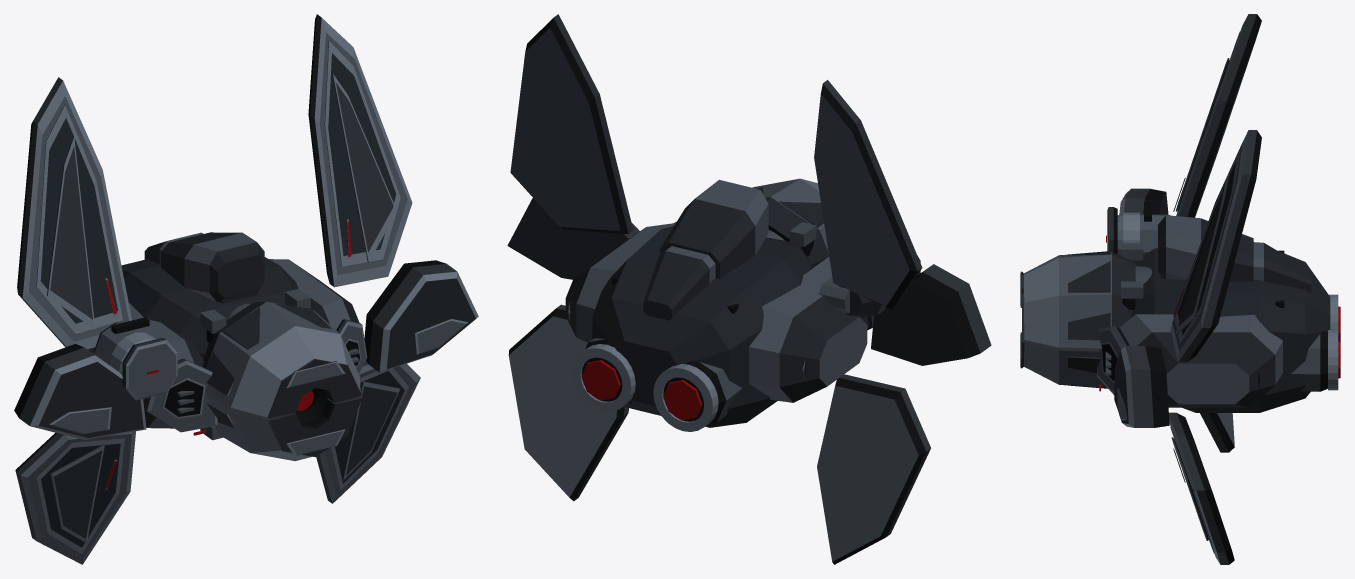
File: VeilAssembled.obj
3 renders of one model, left to right at view 1: azimuth 30°, elevation 25°; view 2: azimuth 150°, elevation 25°; view 3: azimuth 270°, elevation 25°, orthographic. The views are drawn at different scales.
Parts seen in each view (by area): view 1: swept_blade, blade_inset, armoured_outrigger, load_bearing_ridge, armoured_bore_jaw, armoured_pressure_hull, dorsal_panel_mount, nose_armour_face, heavy_shoulder, sensor_hatch, shoulder_face, jaw_reinforcement (+7 smaller); view 2: swept_blade, armoured_pressure_hull, heavy_shoulder, armoured_outrigger, dorsal_panel_mount, exhaust_collar, dorsal_spine, armoured_bore_jaw, engine_core, rear_engine, sensor_bracket, jaw_reinforcement (+1 smaller); view 3: swept_blade, heavy_shoulder, armoured_bore_jaw, armoured_pressure_hull, armoured_outrigger, dorsal_panel_mount, load_bearing_ridge, jaw_reinforcement, blade_inset, dorsal_spine, rear_engine, exhaust_collar (+5 smaller).
Boxes of the visible parts, x1,y1,x2,y2 form: swept_blade: (15, 14, 420, 564); blade_inset: (36, 41, 408, 553); armoured_outrigger: (14, 260, 478, 439); load_bearing_ridge: (47, 73, 400, 543); armoured_bore_jaw: (203, 301, 360, 461); armoured_pressure_hull: (121, 257, 298, 358); dorsal_panel_mount: (161, 232, 264, 301); nose_armour_face: (267, 358, 361, 456); heavy_shoulder: (87, 259, 359, 428); sensor_hatch: (122, 338, 177, 400); shoulder_face: (144, 319, 367, 432); jaw_reinforcement: (205, 303, 332, 427); swept_blade: (508, 14, 930, 564); armoured_pressure_hull: (592, 226, 811, 427); heavy_shoulder: (565, 223, 867, 402); armoured_outrigger: (507, 198, 991, 365); dorsal_panel_mount: (660, 179, 768, 278); exhaust_collar: (571, 344, 718, 431); dorsal_spine: (643, 246, 715, 320); armoured_bore_jaw: (752, 178, 829, 264); engine_core: (581, 360, 702, 420); rear_engine: (582, 338, 741, 424); sensor_bracket: (818, 277, 849, 313); jaw_reinforcement: (756, 187, 827, 249); swept_blade: (1169, 14, 1261, 564); heavy_shoulder: (1119, 245, 1282, 407); armoured_bore_jaw: (1024, 252, 1135, 387); armoured_pressure_hull: (1130, 247, 1330, 412); armoured_outrigger: (1114, 188, 1169, 427); dorsal_panel_mount: (1158, 215, 1253, 281); load_bearing_ridge: (1171, 58, 1229, 540); jaw_reinforcement: (1068, 251, 1110, 388); blade_inset: (1170, 32, 1240, 553); dorsal_spine: (1160, 242, 1311, 292); rear_engine: (1291, 330, 1327, 391); exhaust_collar: (1328, 294, 1338, 390).
Size of the model in its own units: 4.24 by 4.28 by 2.84.
